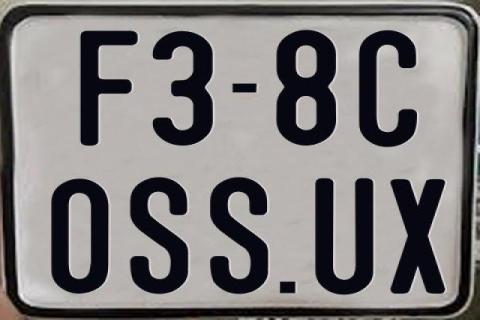0: (149, 31, 216, 151), (275, 29, 338, 149), (51, 178, 114, 294)
C: (356, 29, 417, 149)
F: (80, 29, 138, 148)
S: (209, 176, 273, 295), (128, 176, 188, 296)
U: (312, 178, 375, 294)
X: (390, 178, 448, 296)
